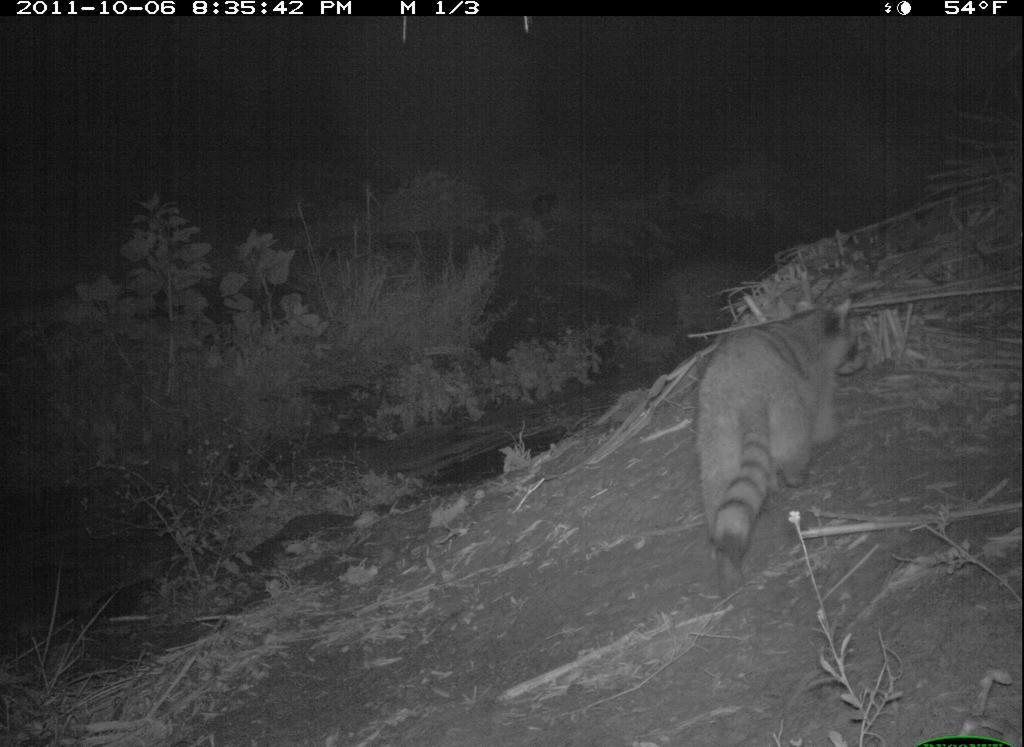raccoon: (681, 295, 861, 566)
